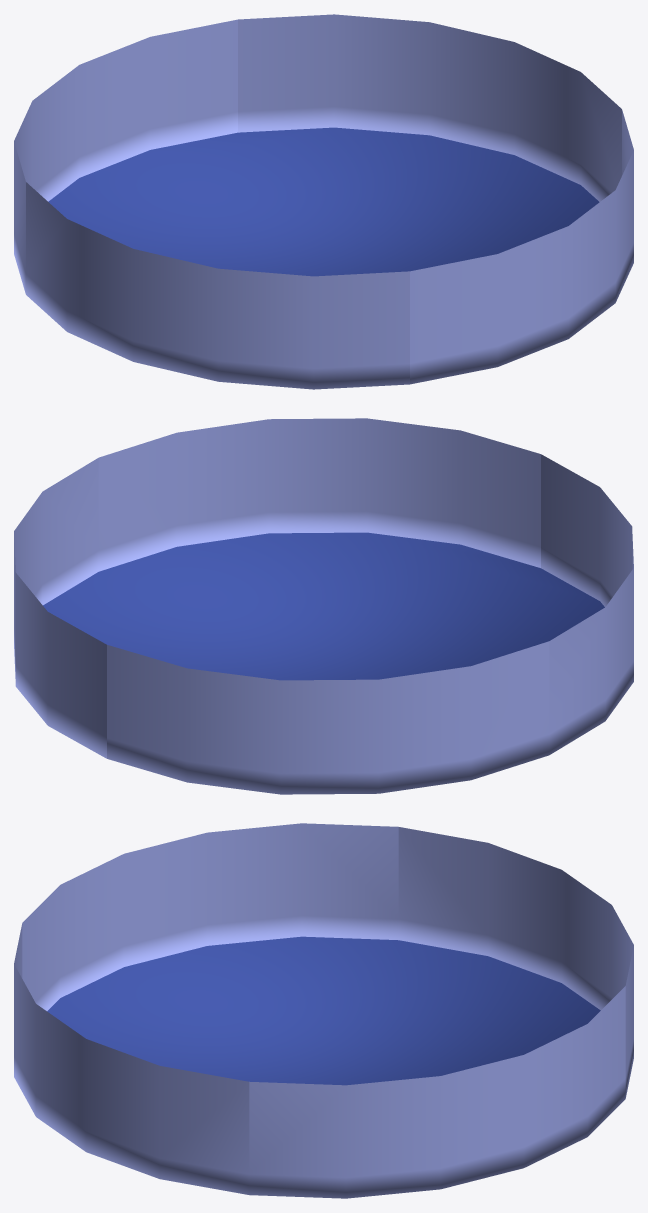
File: IceHole.gltf
3 views of the same model, one above another, from view 1: azimuth 30°, elevation 25°; view 2: azimuth 150°, elevation 25°; view 3: azimuth 270°, elevation 25° (orthographic).
Visible parts, largest first — view 1: ice.001; view 2: ice.001; view 3: ice.001.
Part boxes in pixels (x1=…): ice.001: x1=14, y1=14, x2=633, y2=389; ice.001: x1=14, y1=418, x2=633, y2=794; ice.001: x1=14, y1=823, x2=633, y2=1198.
Size of the model in its own units: 1.18 by 0.2382 by 1.18.
Materials: 1 (1 with a texture image).
